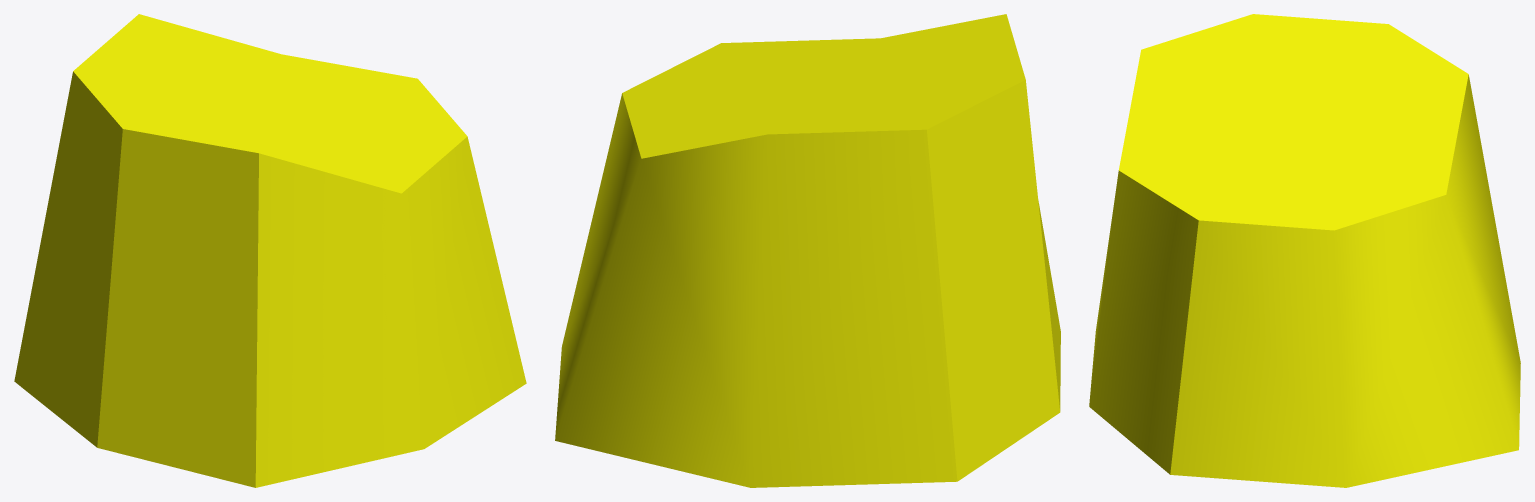
The model's file is forest_stump_1.glb.
3 renders of one model, left to right at view 1: azimuth 30°, elevation 25°; view 2: azimuth 150°, elevation 25°; view 3: azimuth 270°, elevation 25°, orthographic. The views are drawn at different scales.
Parts seen in each view (by area): view 1: Cylinder.019; view 2: Cylinder.019; view 3: Cylinder.019.
Boxes of the visible parts, left/top/right/bottom form: Cylinder.019: left=14, top=14, right=526, bottom=487; Cylinder.019: left=555, top=14, right=1060, bottom=487; Cylinder.019: left=1089, top=14, right=1520, bottom=487.
Size of the model in its own units: 0.3342 by 0.2387 by 0.3158.
1 material, 1 textured.
